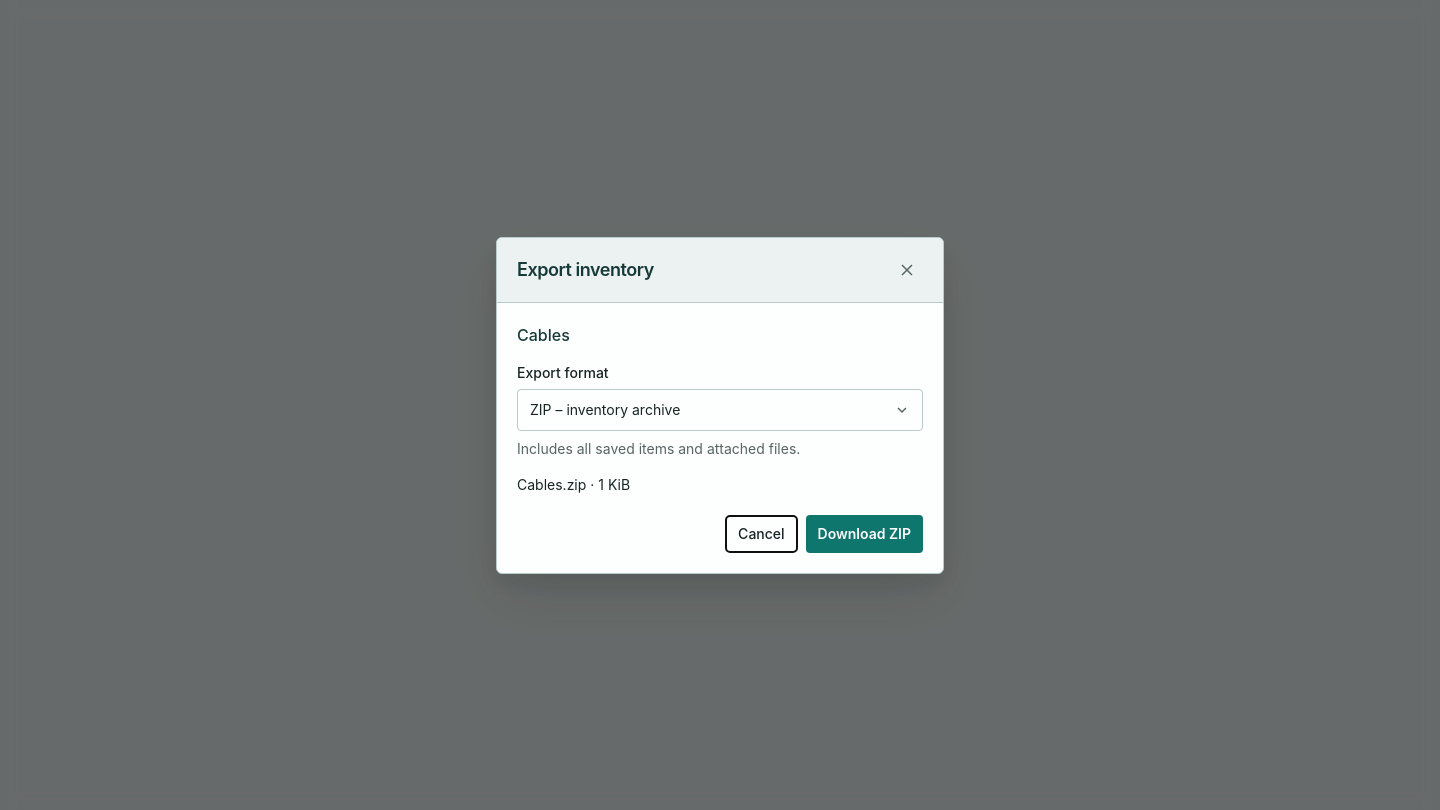
Test: retains the Markdown selection when an expired download is retried
The image size is (1440, 810).
expect the button "Download ZIP" is shown: met, box [806, 514, 923, 552]
Click the dropdown named "Export format".
click(605, 409)  # box [517, 388, 923, 430]
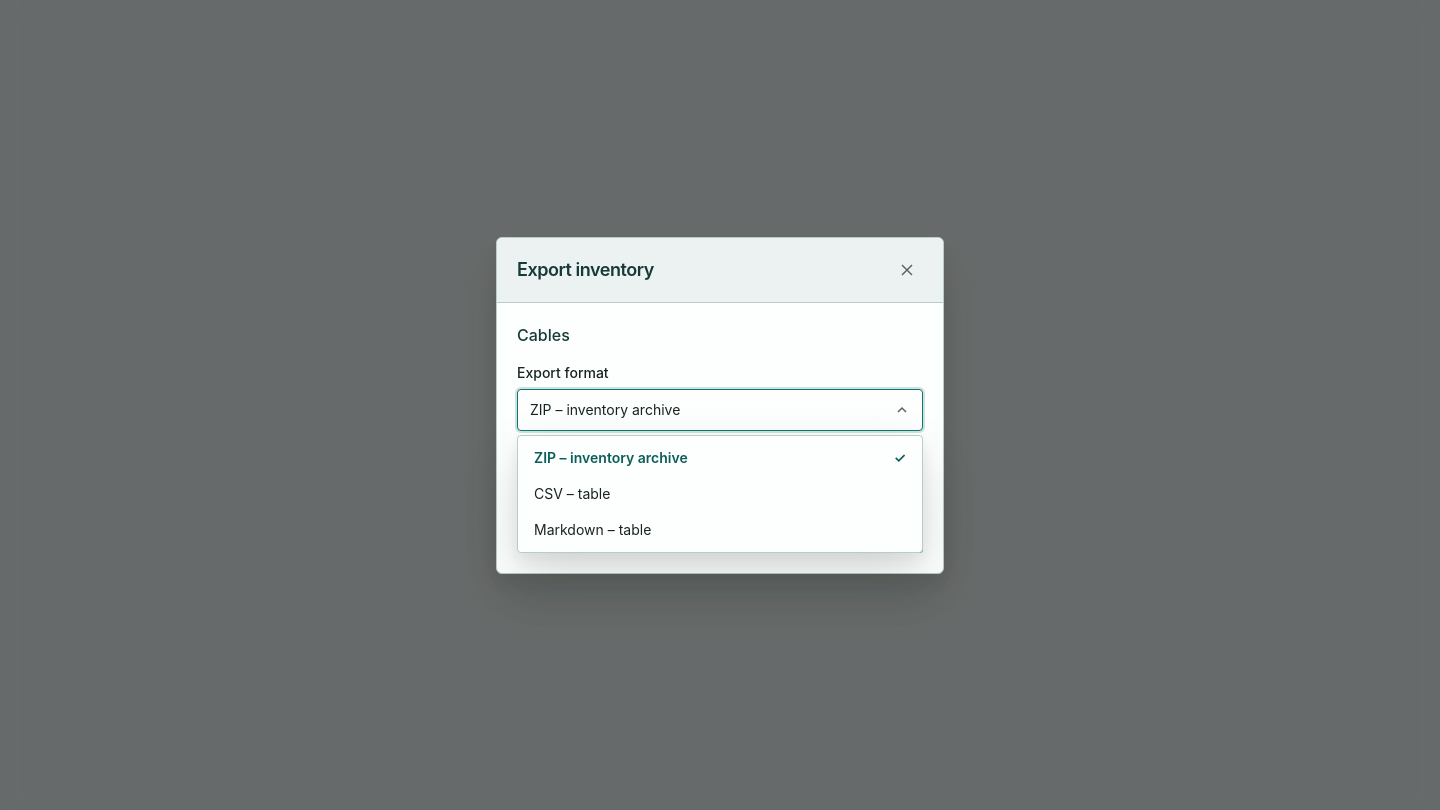
Click the option "Markdown – table".
click(593, 529)  # box [522, 512, 918, 548]
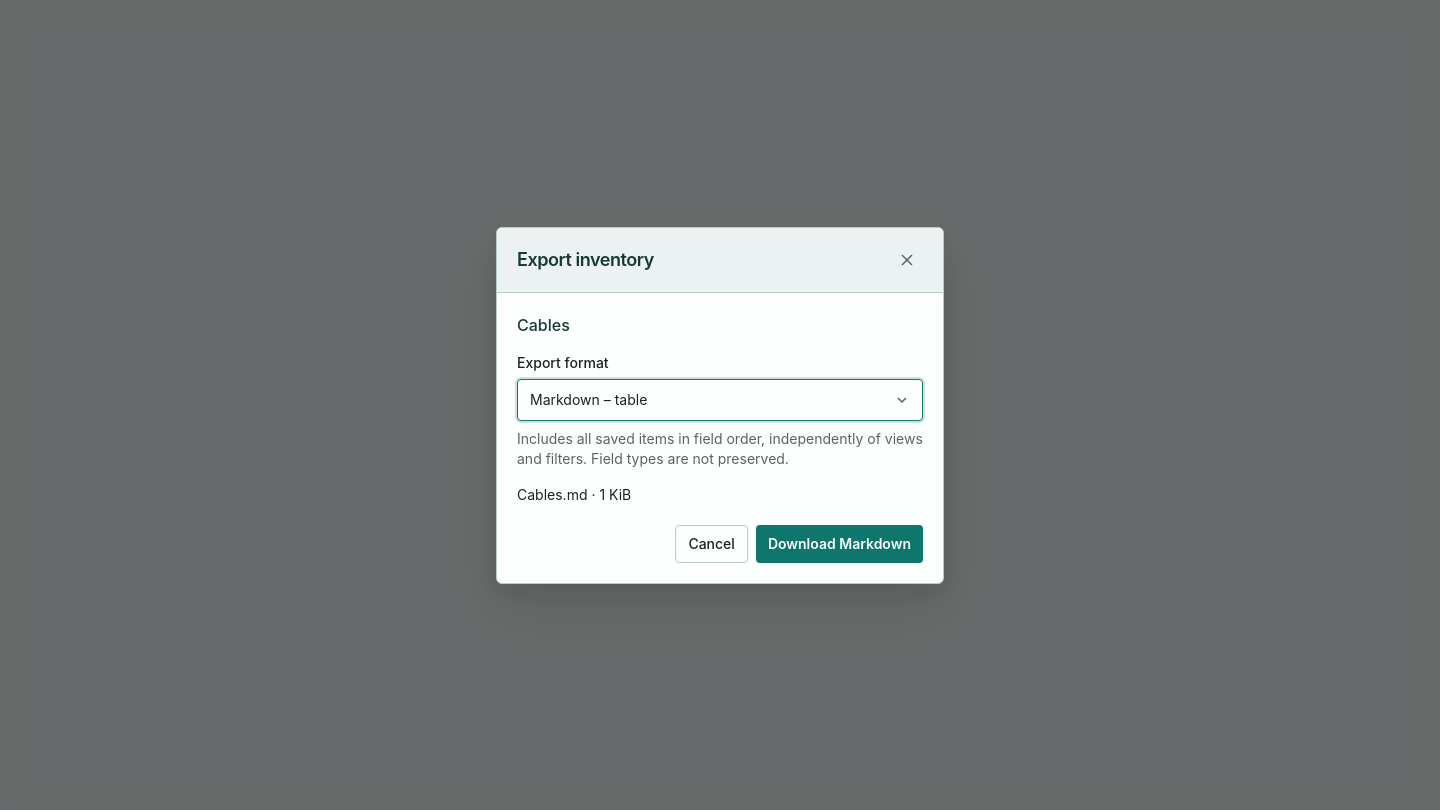
Click the button "Download Markdown".
click(839, 544)  # box [756, 524, 923, 562]
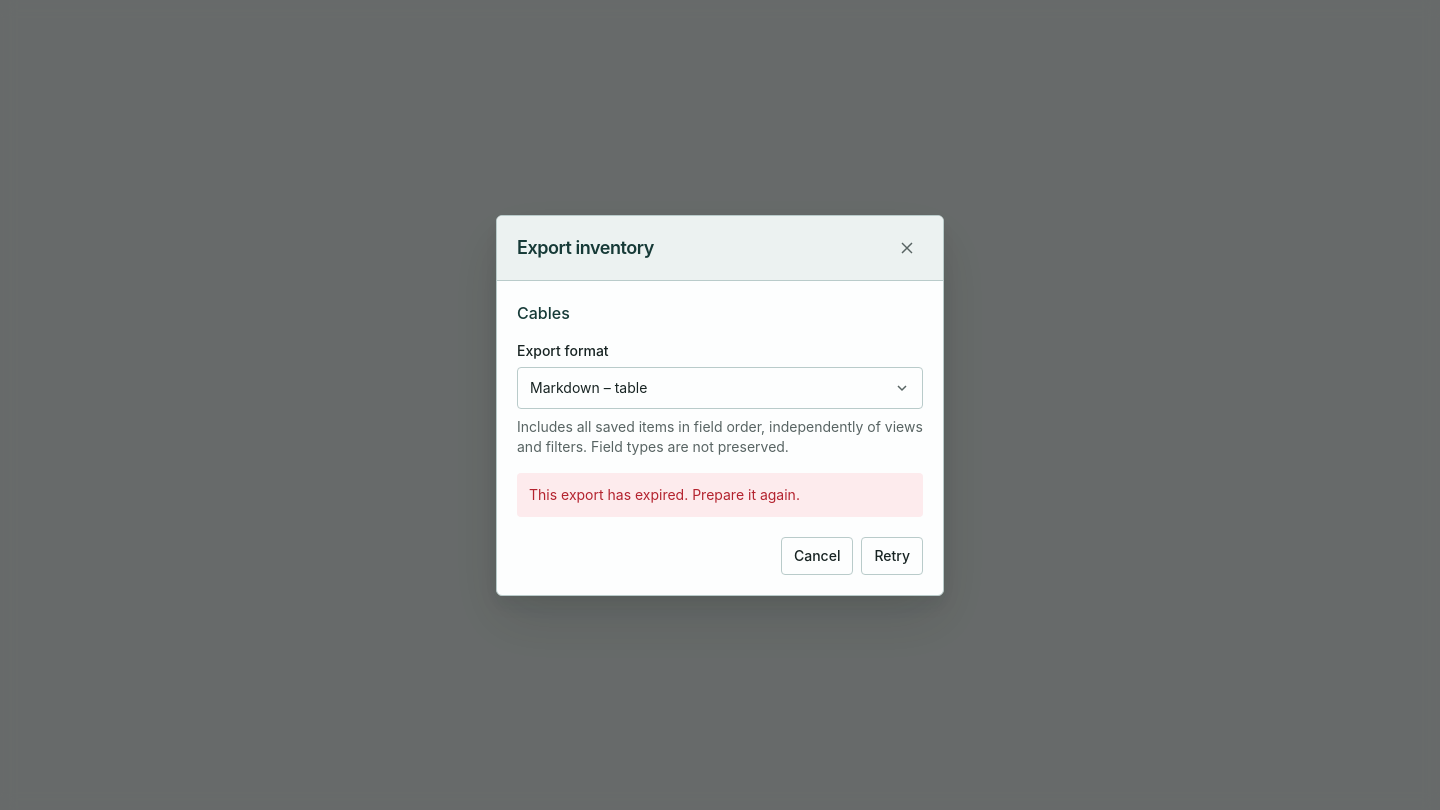
expect the message shows "export has expired": met, box [529, 486, 800, 502]
Click the button "Retry".
click(892, 556)  # box [861, 536, 923, 574]
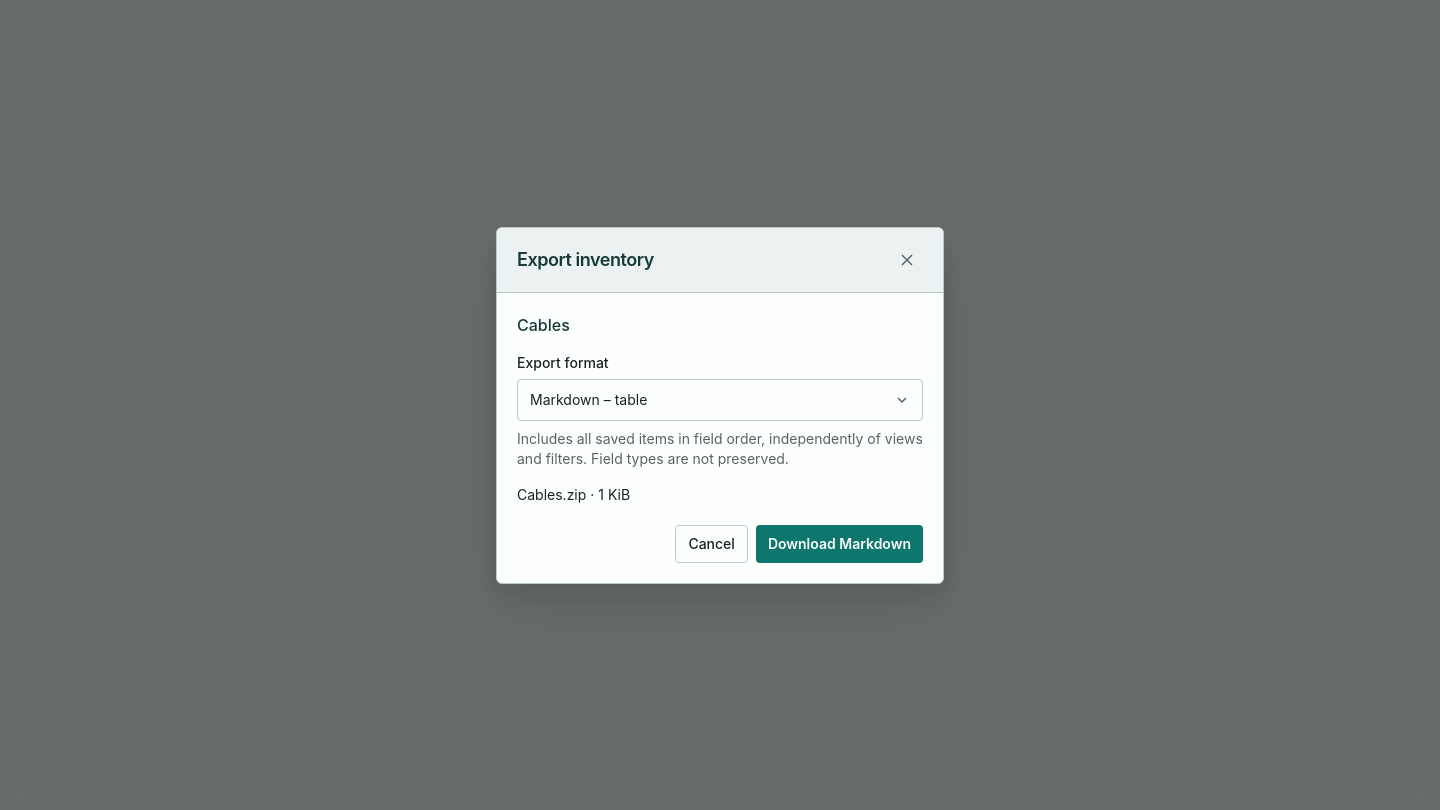
expect the button "Download Markdown" is shown: met, box [756, 524, 923, 562]
